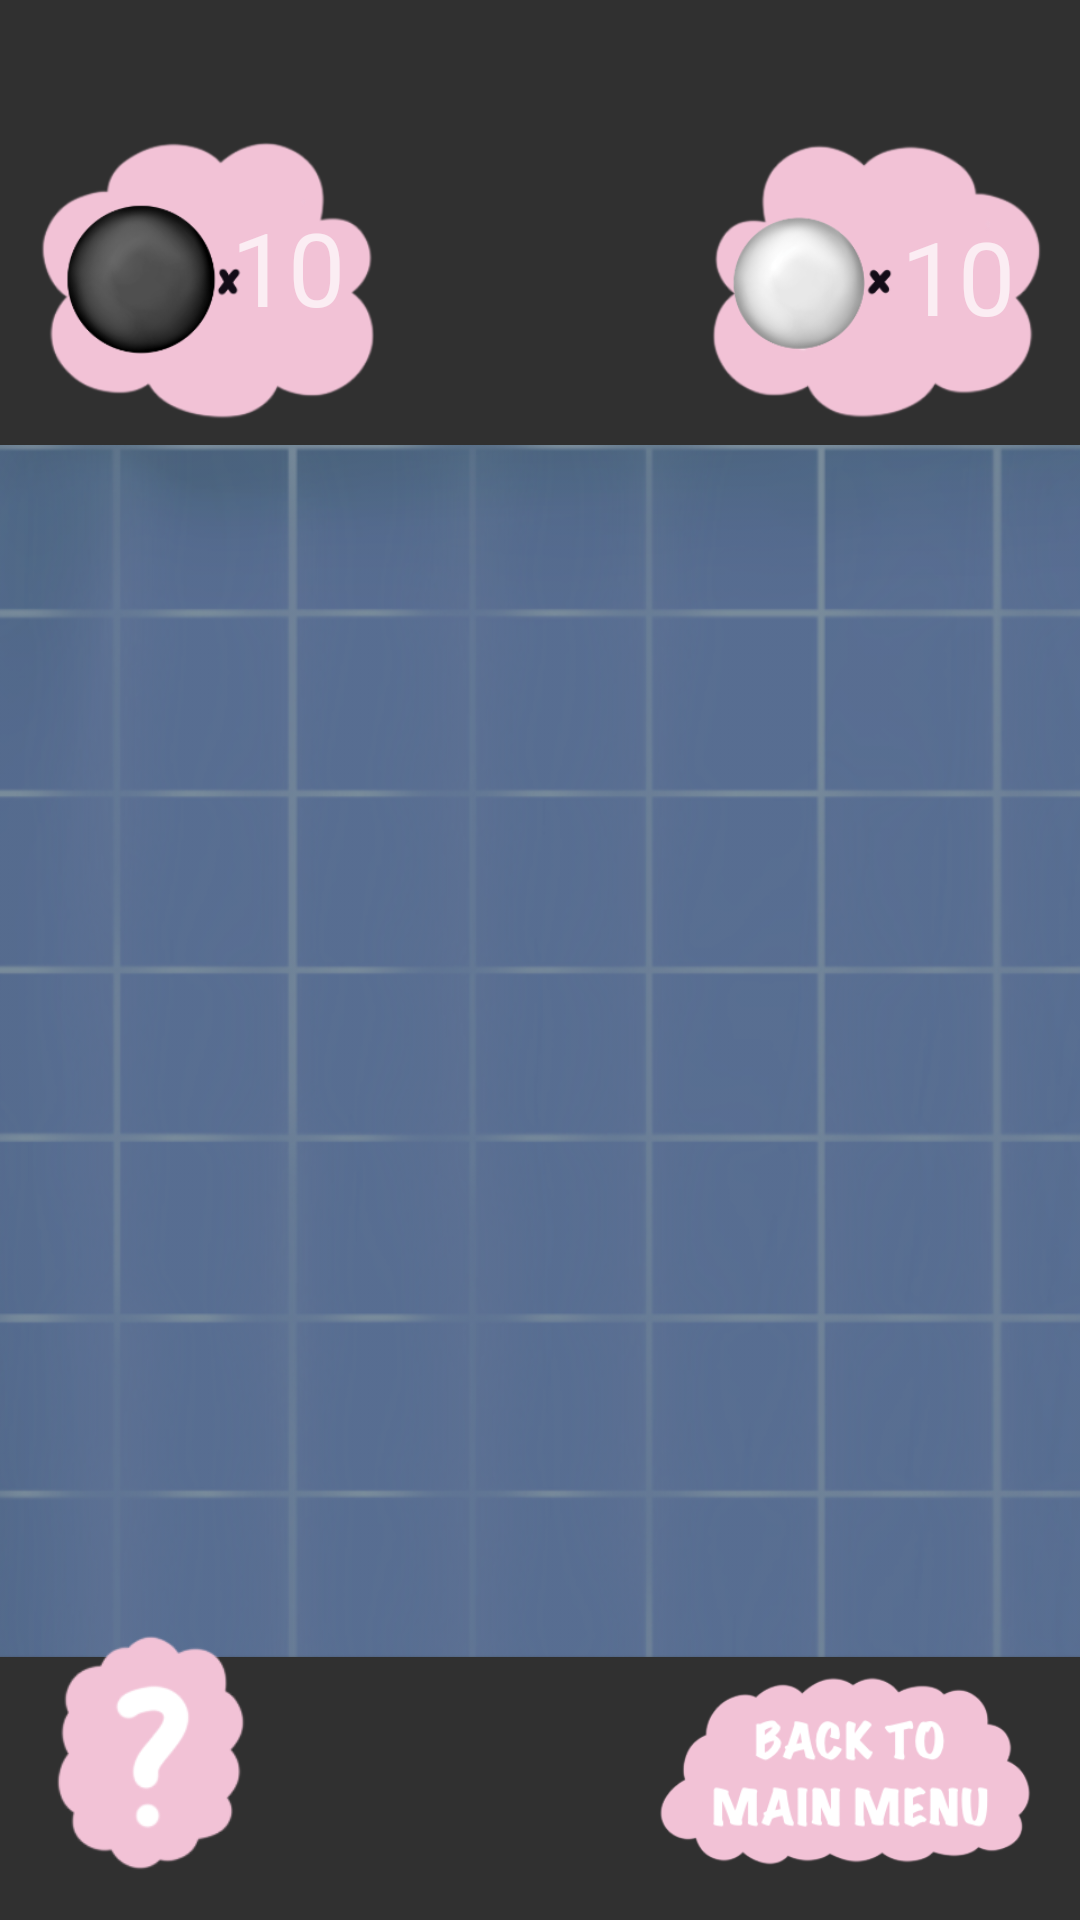

Icons on this 1080×1920 Android screen, each with the point to tap as (x,y):
help buttn: (151,1750)
